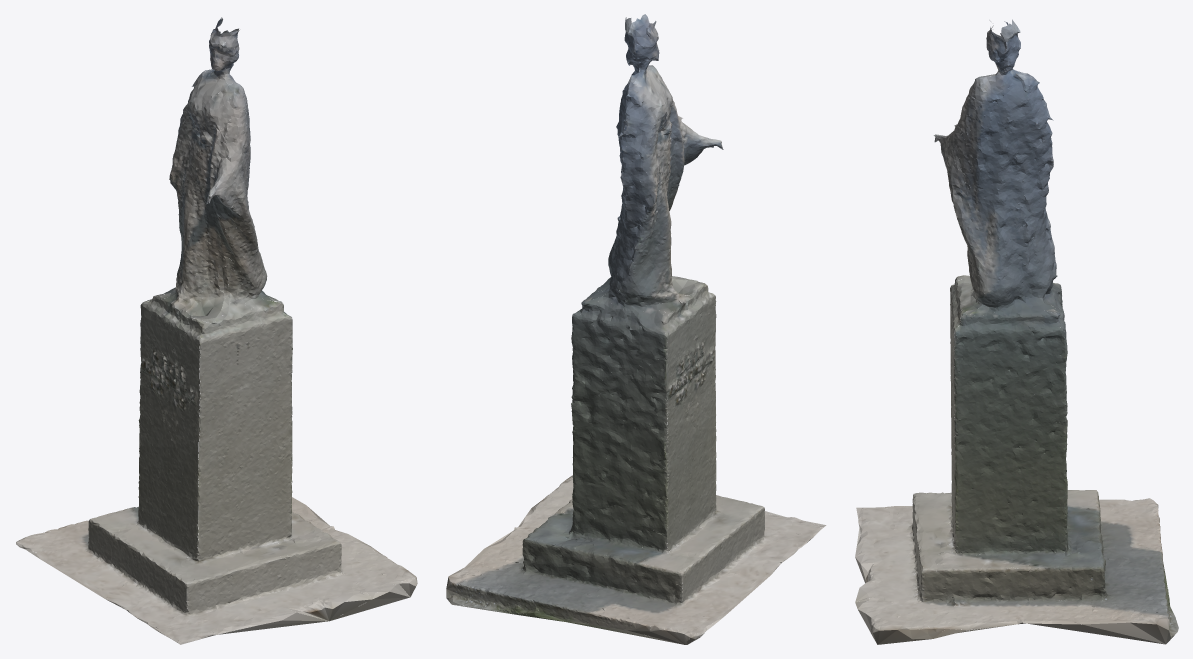
File: queenmaria.glb
3 views of the same model, side by side, from view 1: azimuth 30°, elevation 25°; view 2: azimuth 150°, elevation 25°; view 3: azimuth 270°, elevation 25° (orthographic). The views are drawn at different scales.
Visible parts, largest first — view 1: Group_Global; view 2: Group_Global; view 3: Group_Global.
Boxes of the visible parts, x1=… form: Group_Global: x1=16, y1=17, x2=417, y2=644; Group_Global: x1=446, y1=14, x2=826, y2=644; Group_Global: x1=855, y1=19, x2=1178, y2=644.
Bounding box in the file's own units: 4.01 × 8.17 × 4.18.
